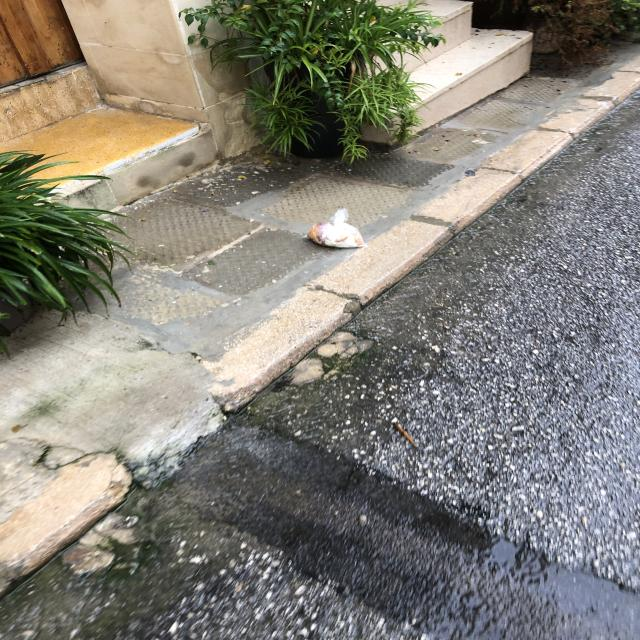Organic Waste -White Bag-: (308, 210, 368, 252)
